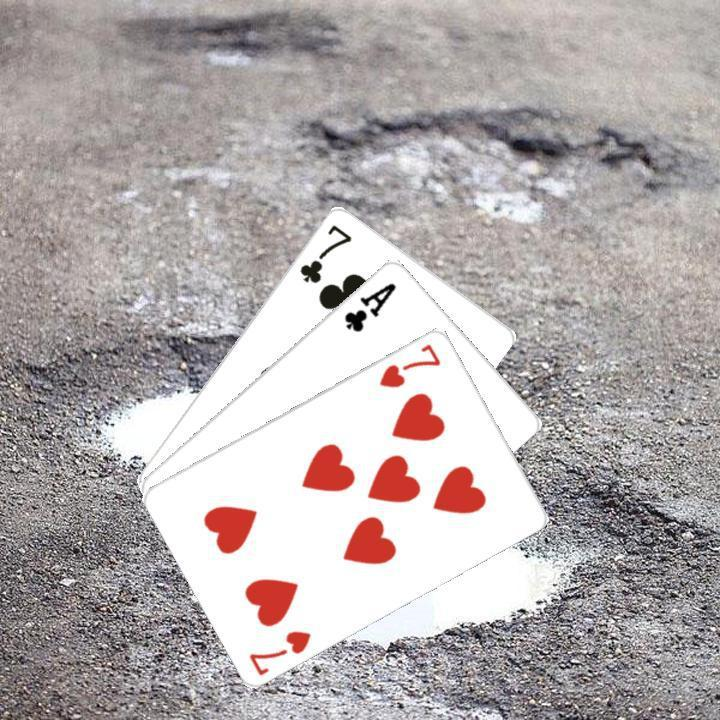7: (295, 219, 354, 285), (244, 625, 313, 678), (374, 338, 444, 390)
A: (339, 277, 399, 334)
